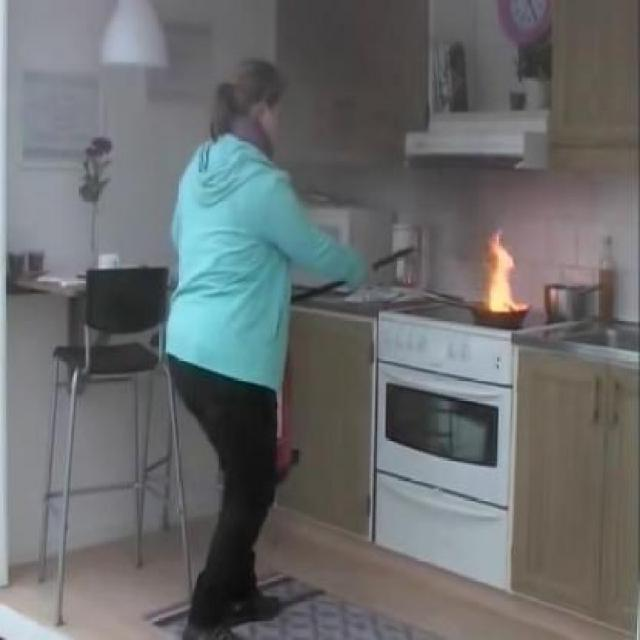fire: (402, 168, 479, 276)
smoke: (480, 218, 520, 307)
